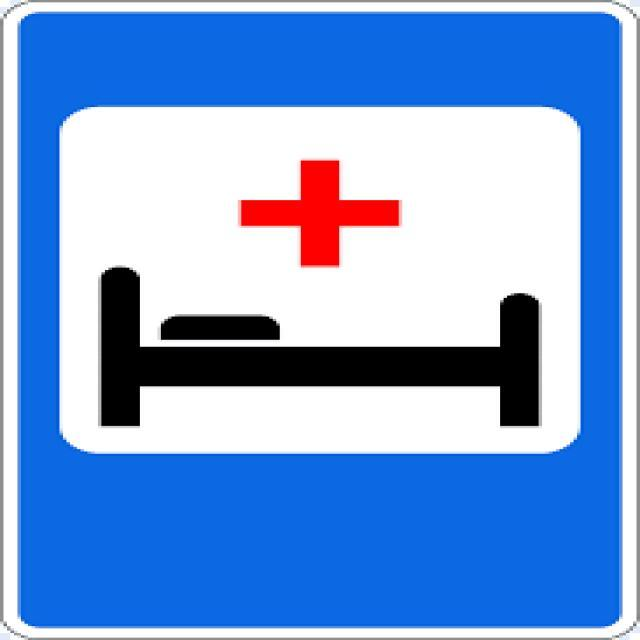hospital ahead: (42, 84, 616, 470)
